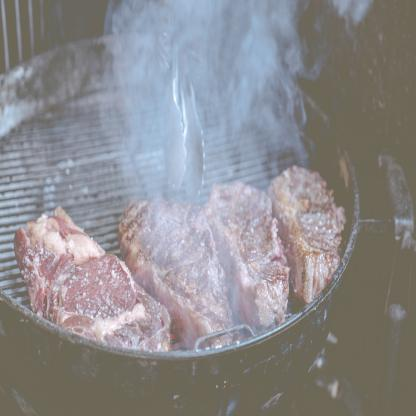Carne: (122, 198, 228, 302), (211, 182, 291, 318), (274, 170, 340, 296)
